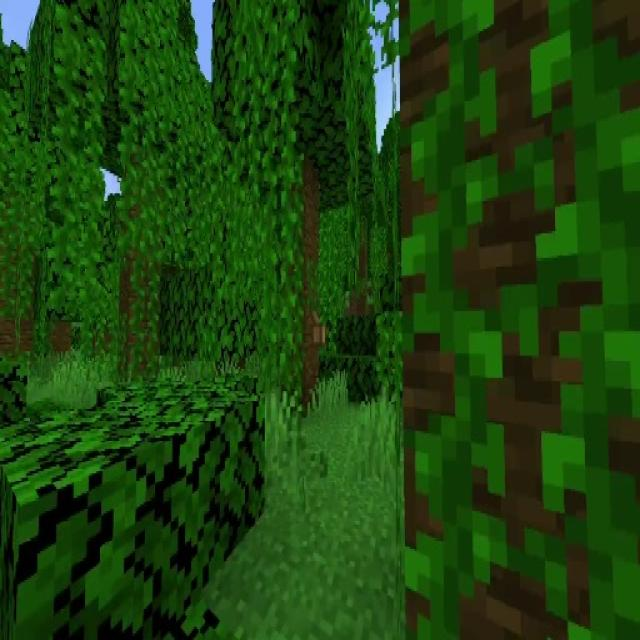jungle_log: (400, 0, 638, 640), (0, 156, 39, 372), (121, 166, 158, 385), (292, 190, 323, 409)
